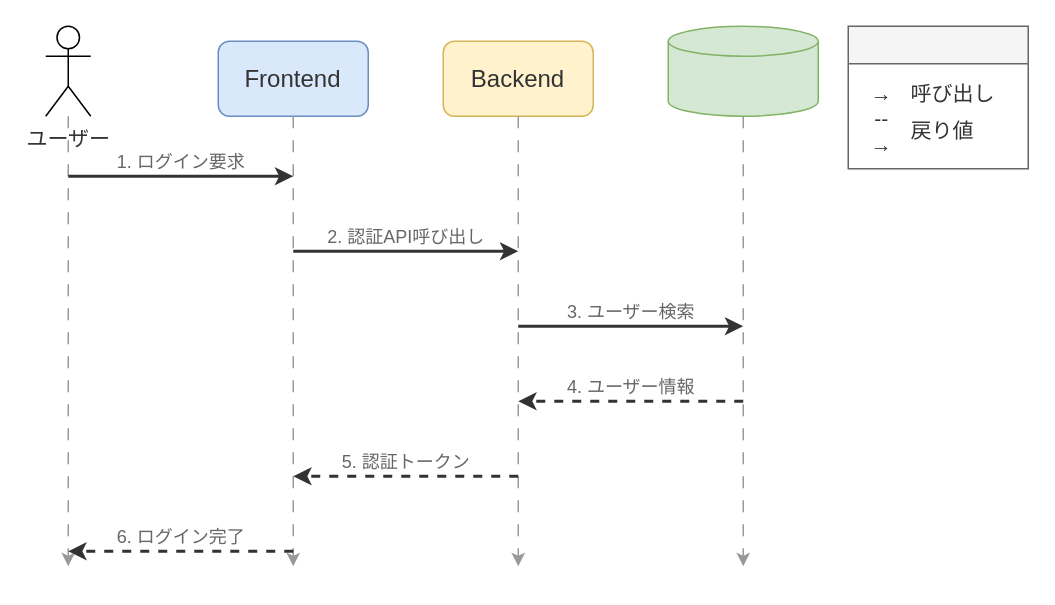
This 1055x605 diagram has some shape labels left out. Here are the shapes that lost their labels. From the top down, the box of each, then its label:
(667, 25, 818, 116): Database
(847, 25, 1028, 169): 凡例
